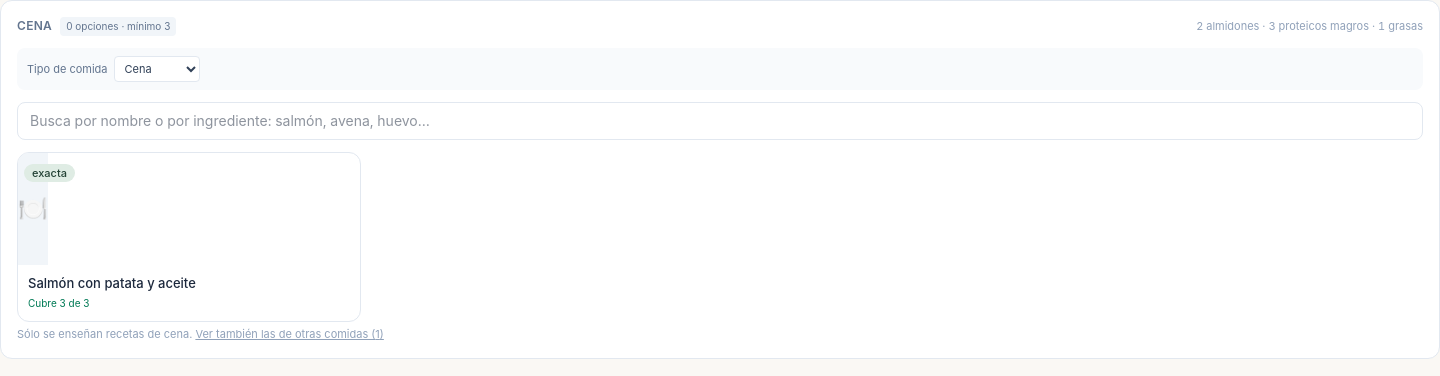
Test case: Ver todas › las de otras comidas se abren con un botón
The width and height of the screenshot is (1440, 376).
Expected: the text "Porridge" is not shown
Click the button "Ver también las de otras comidas (1)" at (290, 334), box [195,326,384,342]
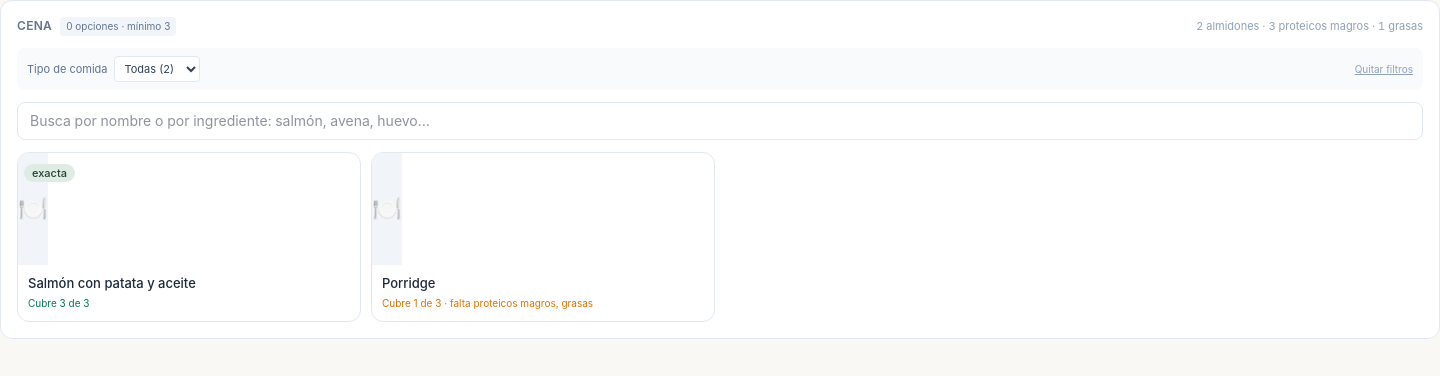
Expected: the text "Porridge" is shown, [382,275,435,291]
